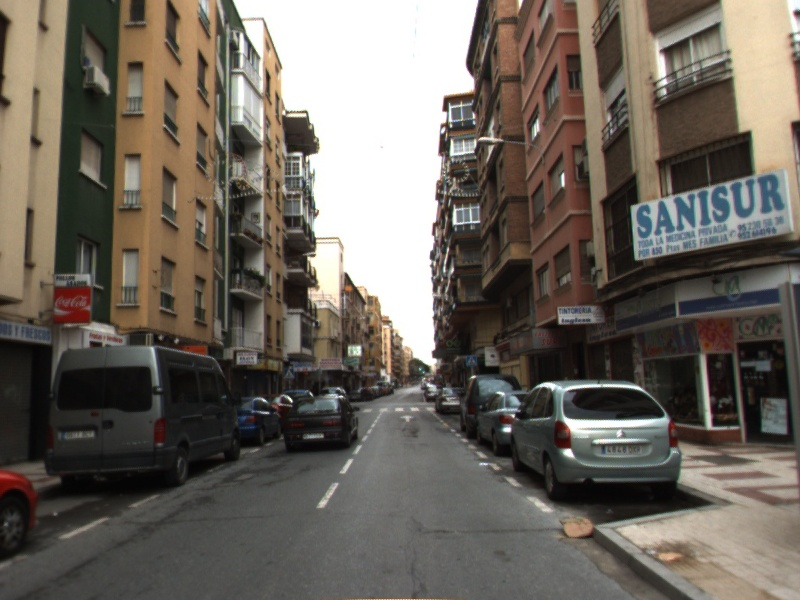STRAIGHT: (398, 413, 417, 424)
